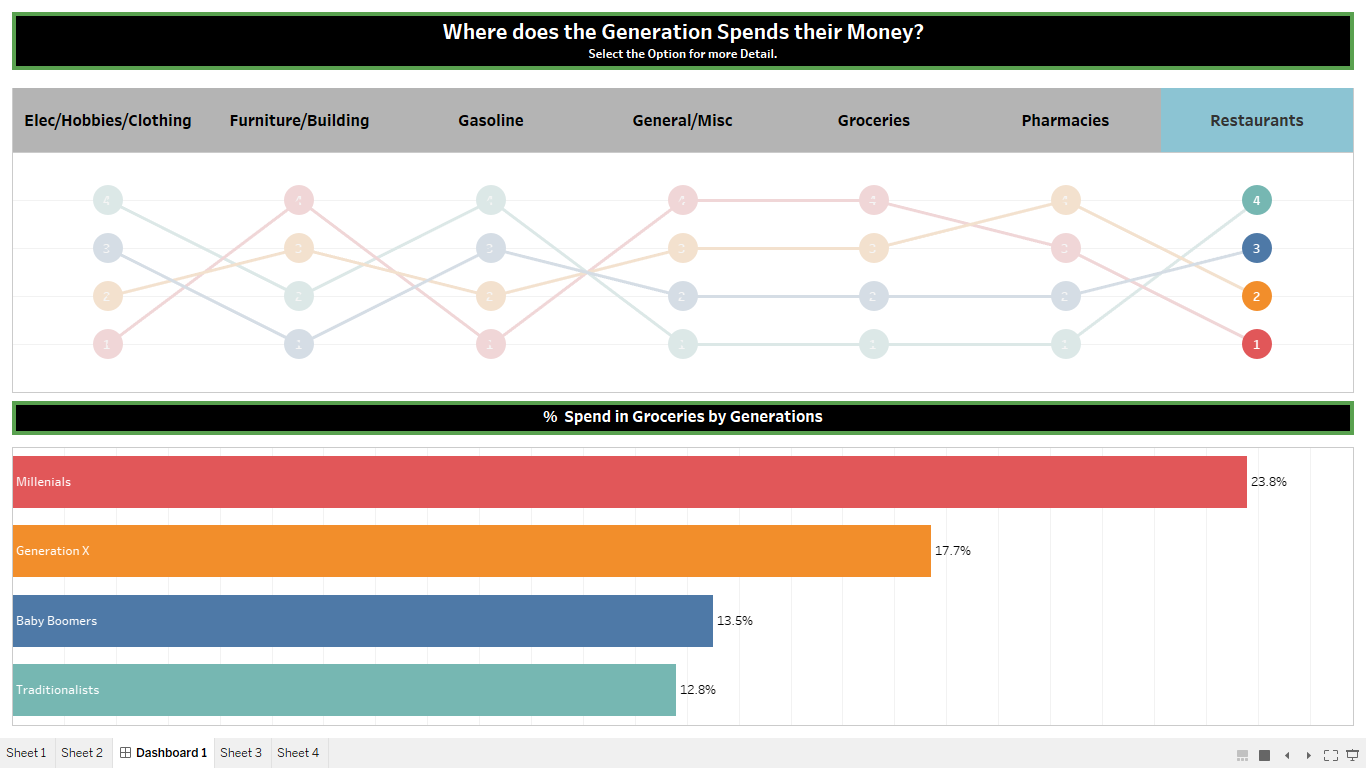

The page's visual inventory and layout, read from the dashboard file:
{"tool":"tableau","page":{"name":"Dashboard 1","canvas":[1000,1000],"units":"permille","ordinal":0},"visuals":[{"type":"worksheet","title":"Sheet 3","mark":"Automatic","box":[6.9,13.3,986.1,102.9]},{"type":"worksheet","title":"Sheet 1","mark":"Line","cols":["Category"],"box":[6.9,116.2,986.1,421.9]},{"type":"worksheet","title":"Sheet 4","mark":"Automatic","box":[6.9,538.1,986.1,61.5]},{"type":"worksheet","title":"Sheet 2","mark":"Bar","rows":["Category","Generation"],"cols":["% of Spending","% of Spending"],"box":[6.9,599.5,986.1,387.2]}]}

Visuals, with their boxes on the dashboard's canvas, which has no fixed pixel size, in thousandths of its width and height (x1, y1, x2, y2). These are canvas units, not pixel positions in the 1366x768 screenshot, which may show the page scaled, cropped or inside an application window:
"Sheet 3" worksheet: {"left": 7, "top": 13, "right": 993, "bottom": 116}
"Sheet 1" worksheet (Line marks): {"left": 7, "top": 116, "right": 993, "bottom": 538}
"Sheet 4" worksheet: {"left": 7, "top": 538, "right": 993, "bottom": 600}
"Sheet 2" worksheet (Bar marks): {"left": 7, "top": 600, "right": 993, "bottom": 987}
